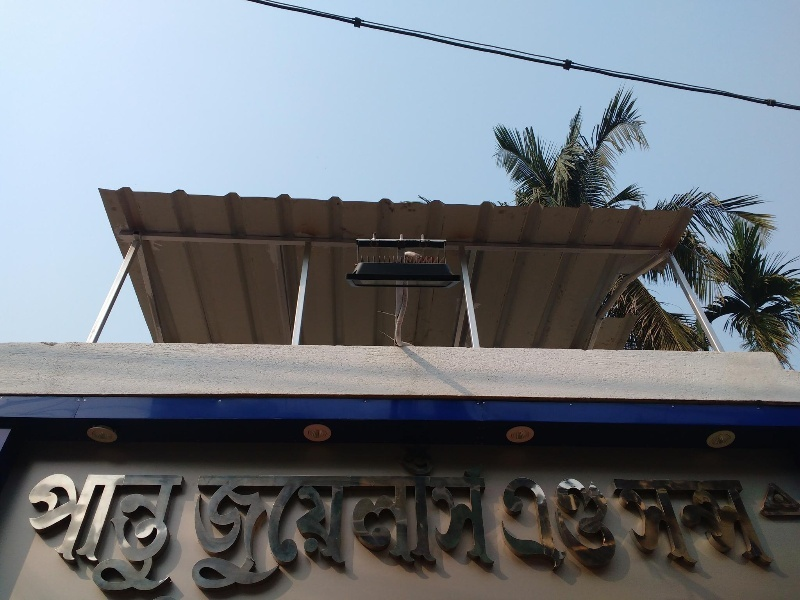text: (209, 459, 224, 599), (225, 459, 240, 599), (241, 459, 256, 599), (257, 459, 272, 599), (273, 459, 288, 599), (289, 459, 304, 599), (305, 459, 320, 599), (321, 459, 336, 599), (337, 459, 352, 599), (353, 459, 368, 599), (369, 459, 384, 599), (385, 459, 400, 599), (401, 459, 416, 599), (417, 459, 432, 599), (433, 459, 448, 599), (449, 459, 464, 599), (465, 459, 480, 599), (481, 459, 496, 599), (33, 466, 48, 600), (49, 466, 64, 600), (65, 466, 80, 600), (81, 466, 96, 600), (97, 466, 112, 600), (113, 466, 128, 600), (129, 466, 144, 600), (145, 466, 160, 600), (161, 466, 176, 600), (177, 466, 192, 600), (497, 459, 511, 599), (497, 471, 512, 581), (513, 471, 528, 581), (529, 471, 544, 581), (545, 471, 560, 581), (561, 471, 576, 581), (577, 471, 592, 581), (593, 471, 608, 581), (609, 471, 624, 581), (609, 476, 624, 575), (625, 476, 640, 575), (641, 476, 656, 575), (657, 476, 672, 575), (673, 476, 688, 575), (689, 476, 704, 575), (705, 476, 720, 575), (721, 476, 736, 575), (737, 476, 752, 575), (753, 476, 768, 575), (769, 476, 782, 575), (199, 459, 208, 599), (625, 471, 634, 581), (601, 476, 608, 575), (769, 476, 784, 517), (785, 476, 800, 517), (417, 443, 433, 474), (401, 443, 416, 474), (494, 471, 496, 581), (31, 466, 32, 600), (767, 476, 768, 517)
